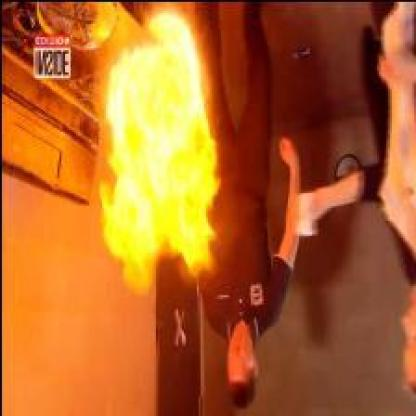Fire: (103, 21, 216, 289)
